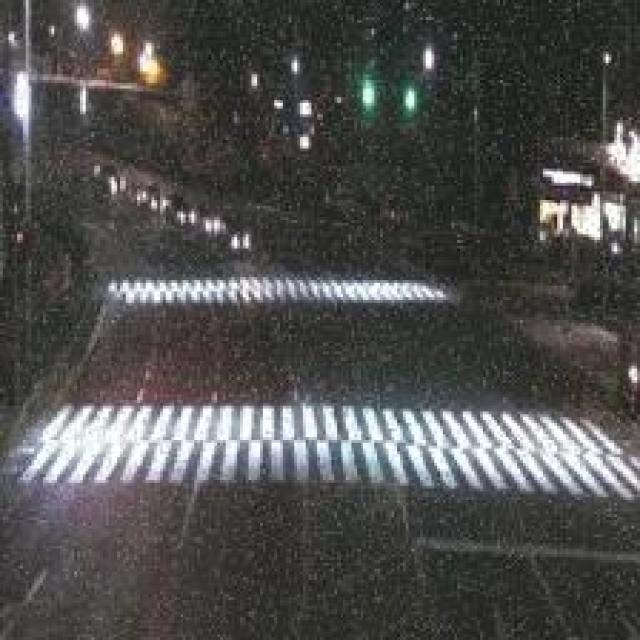crosswalk: (14, 399, 640, 502), (107, 269, 449, 312)
